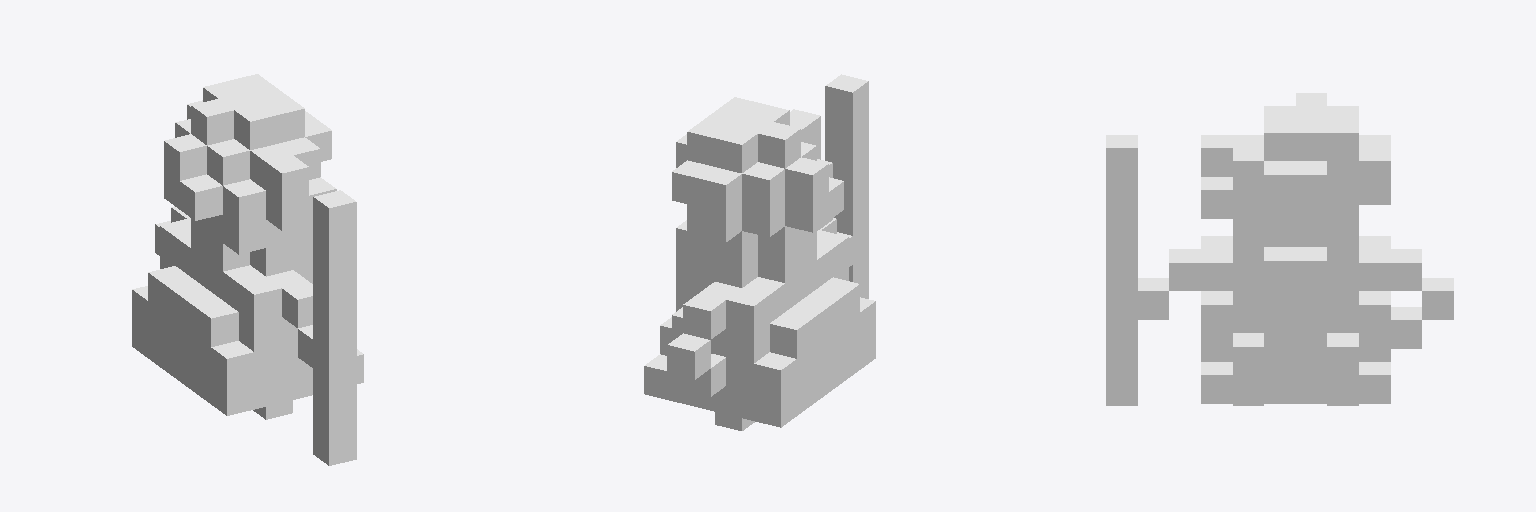
File: Scout.obj
3 renders of one model, left to right at view 1: azimuth 30°, elevation 25°; view 2: azimuth 150°, elevation 25°; view 3: azimuth 270°, elevation 25°, orthographic.
Parts seen in each view (by area): view 1: object 1; view 2: object 1; view 3: object 1.
Boxes of the visible parts, x1,y1,x2,y2 form: object 1: [132, 74, 363, 465]; object 1: [644, 74, 875, 430]; object 1: [1106, 93, 1453, 405].
Bounding box in the file's own units: 0.5 × 1 × 1.1.